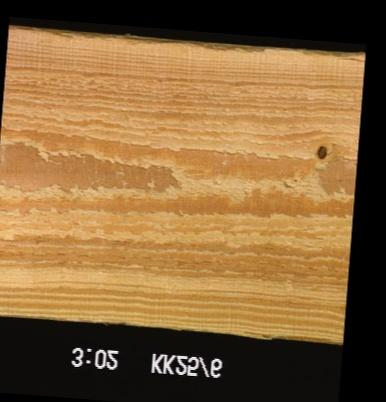dry_knot: (313, 141, 327, 161)
wave: (51, 35, 364, 60)
